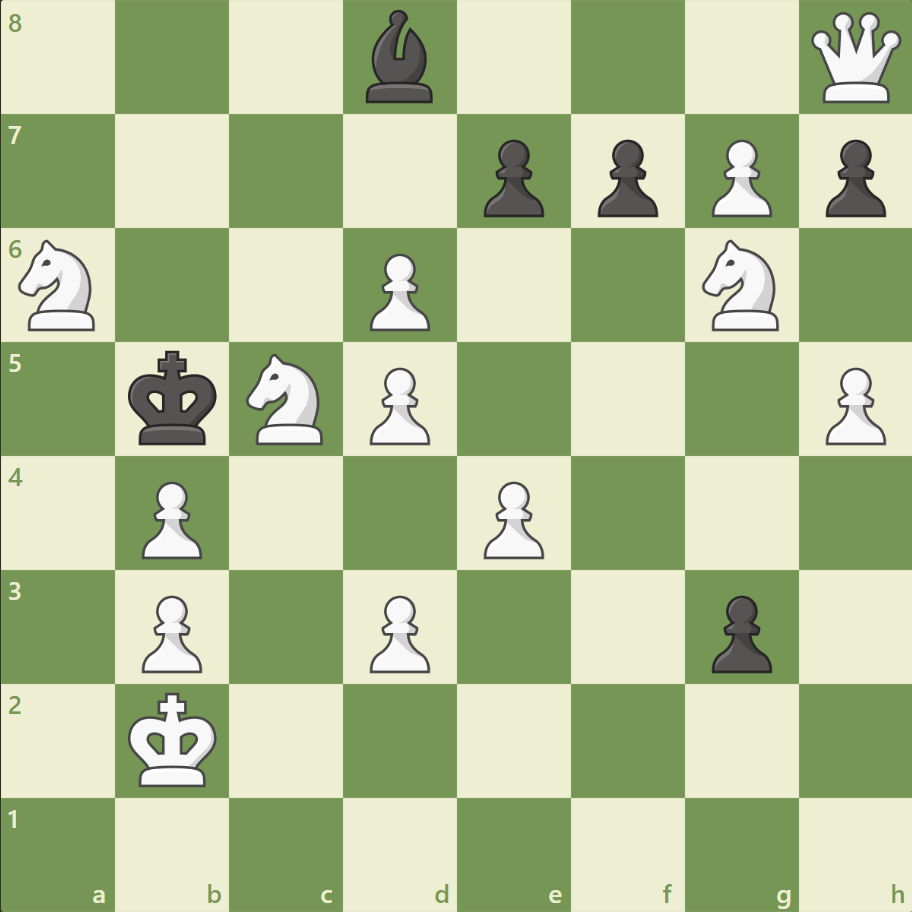K: (124, 685, 224, 793)
N: (11, 234, 108, 337), (692, 234, 789, 337), (238, 348, 335, 450)
P: (701, 132, 776, 223), (133, 473, 208, 564), (474, 473, 549, 564), (133, 586, 208, 677), (361, 246, 435, 337), (361, 359, 435, 450), (815, 359, 889, 450), (361, 586, 435, 677)
Q: (805, 9, 904, 108)
b: (358, 6, 442, 109)
k: (124, 344, 224, 452)
p: (474, 132, 549, 223), (701, 586, 776, 677), (588, 132, 662, 223), (815, 132, 889, 223)
